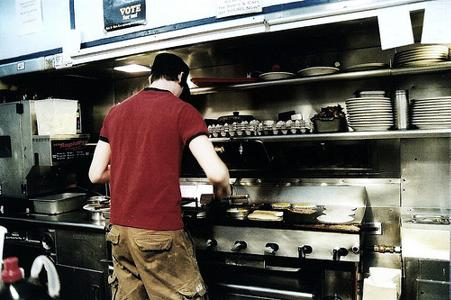person: (88, 51, 232, 300)
